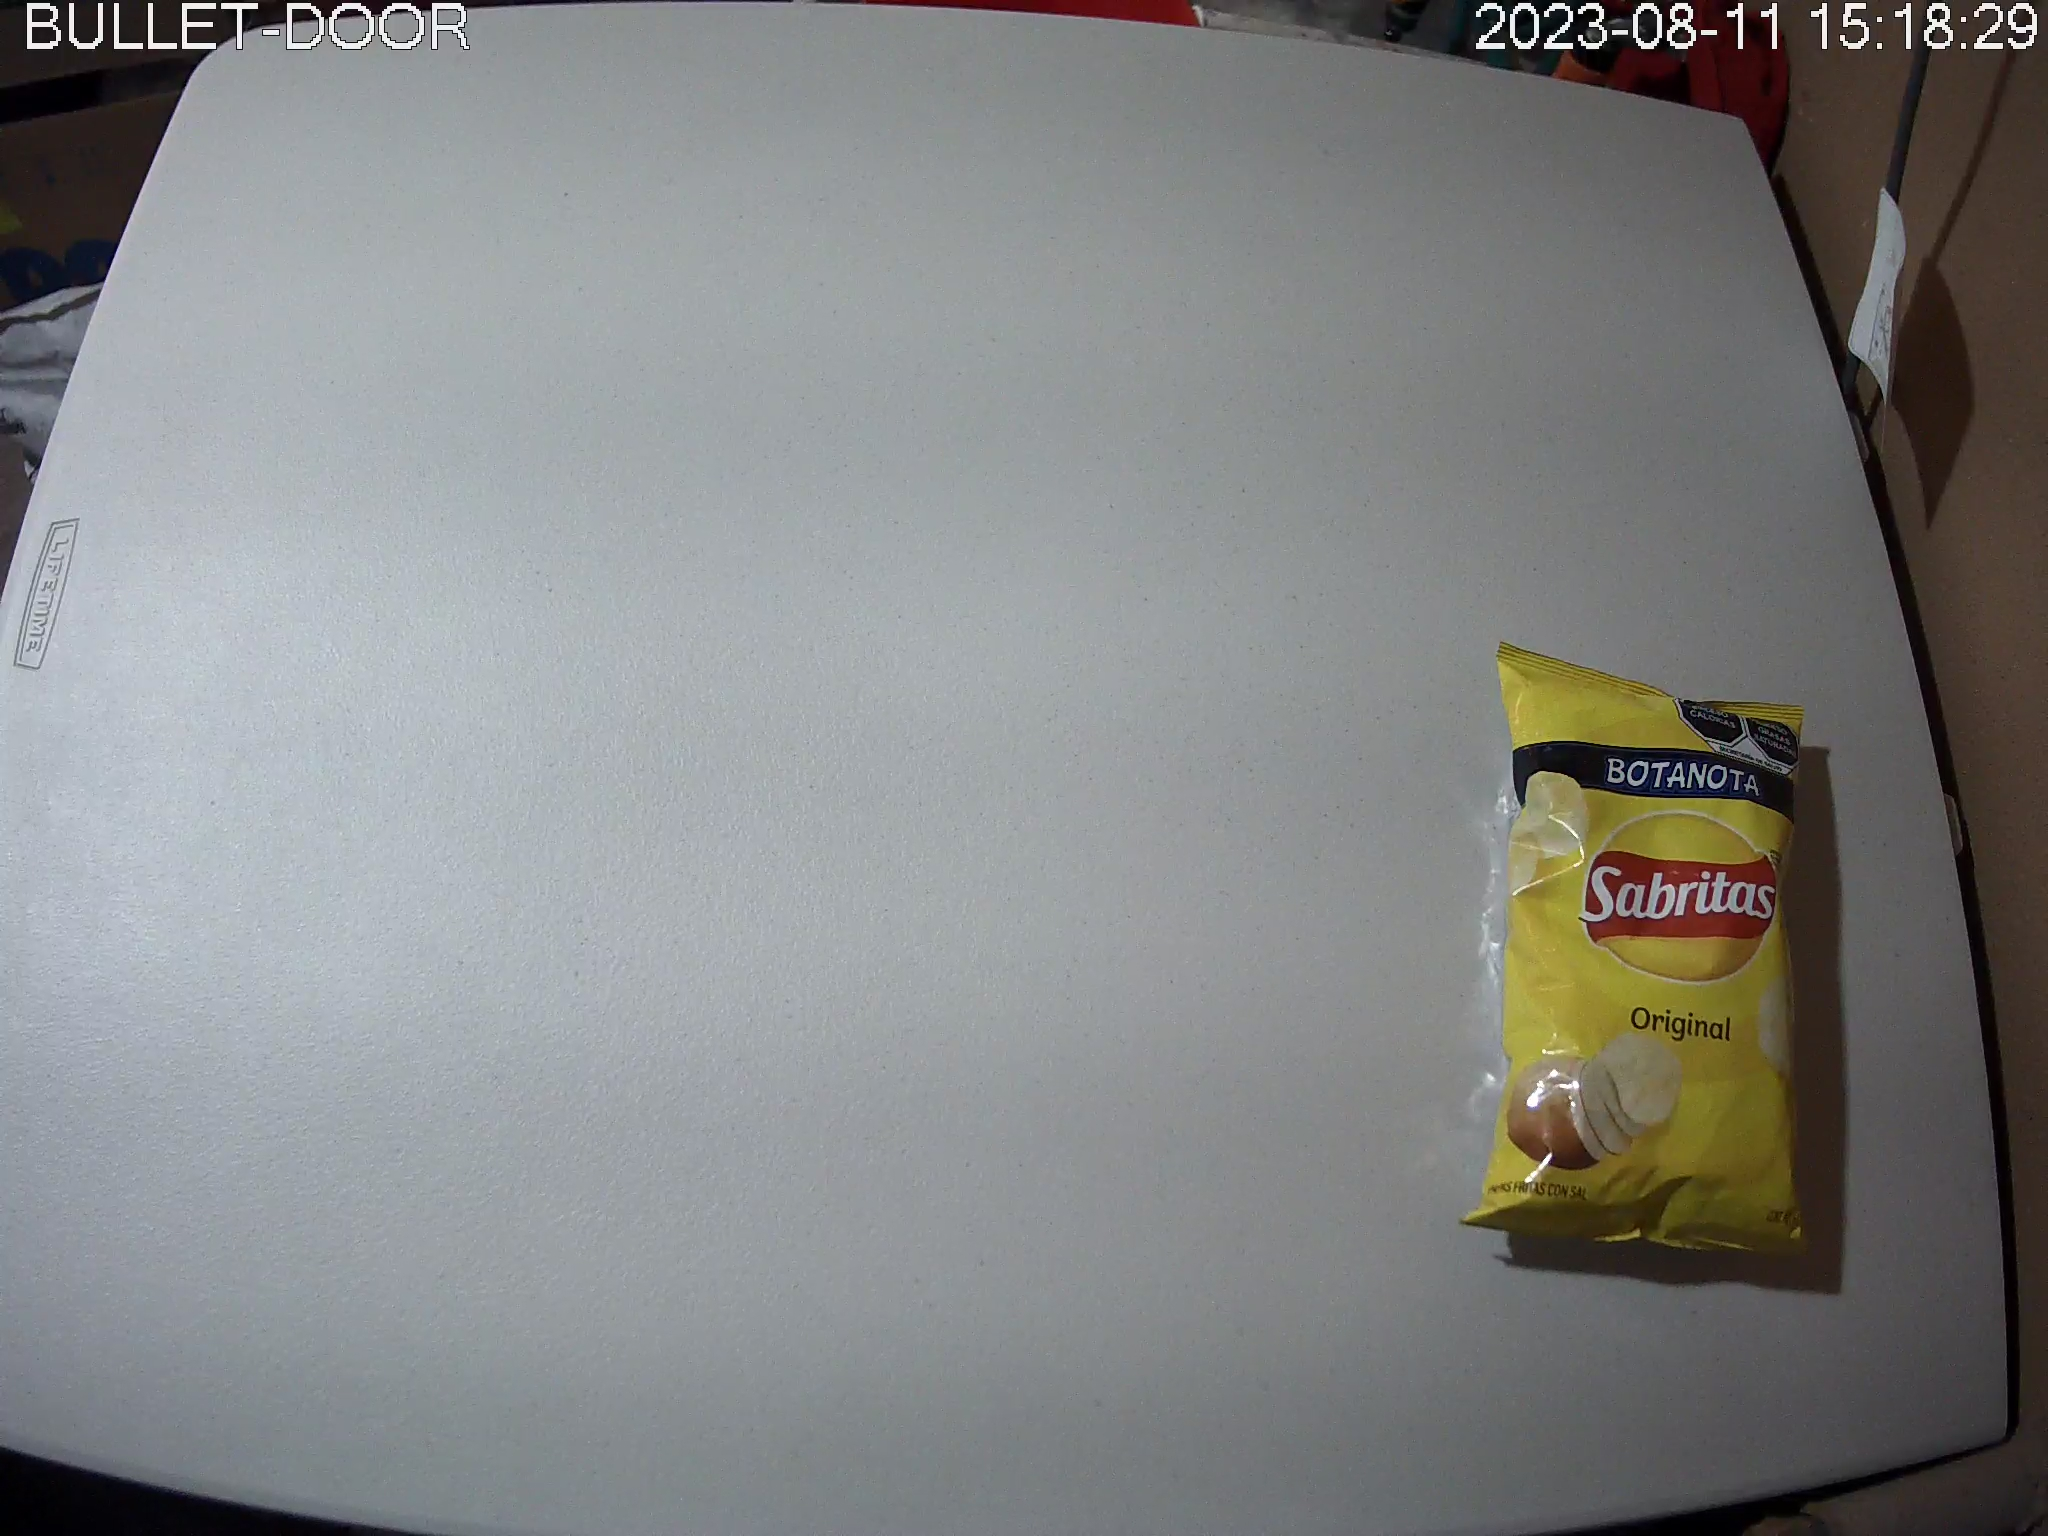Sabritas_64_F: (1458, 639, 1816, 1265)
